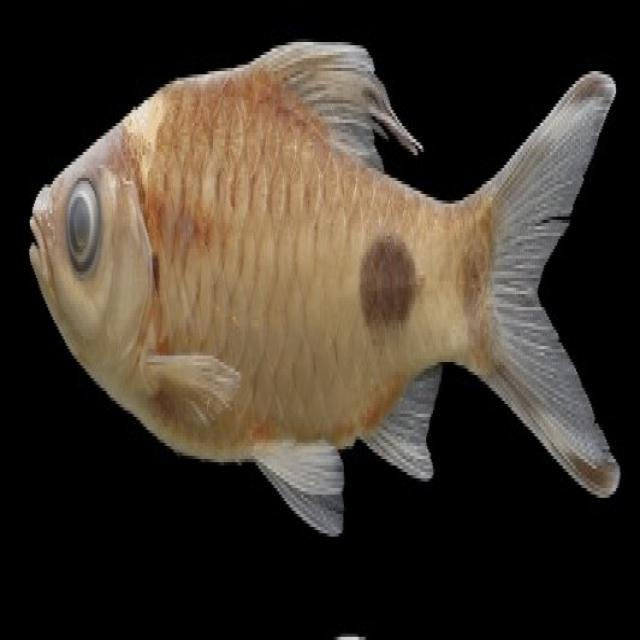Black-Spotted-Barb: (0, 2, 607, 564)
